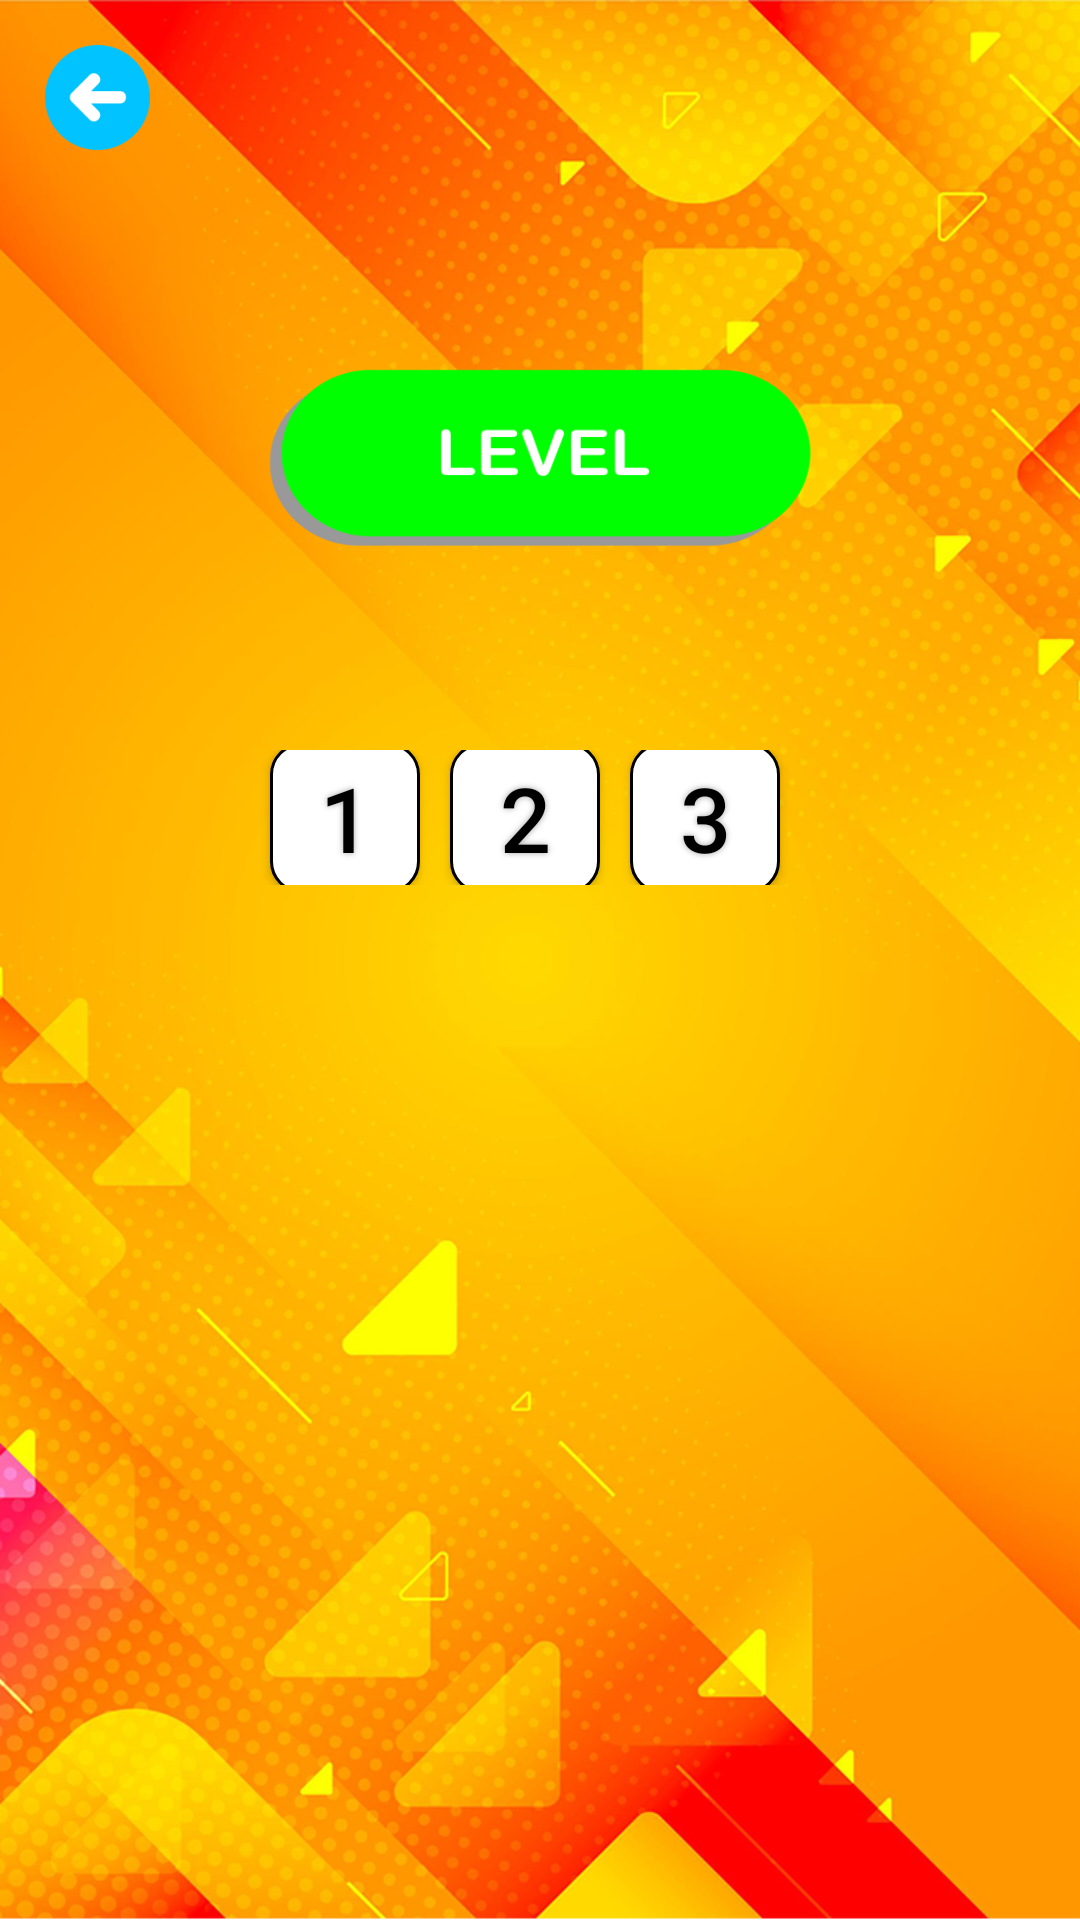

Where to tap for icons on this 1080w x 1920h app screen, as (x,y):
btnback: (97,97)
